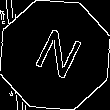N_SW: (26, 24, 84, 86)
